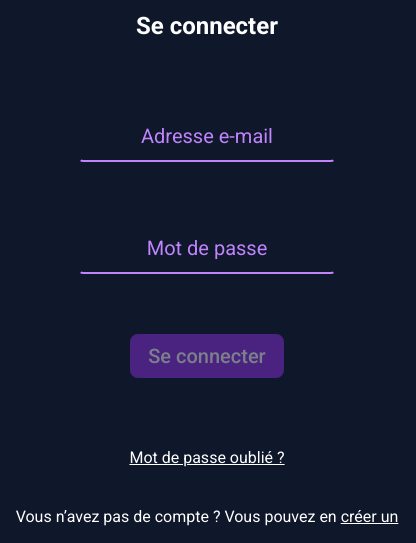
Login › devrait activer le bouton de soumission uniquement quand le formulaire est valide
Note: Saisir un email invalide
Type "invalid-email" into the field with placeholder "Adresse e-mail".
click(207, 136); type("invalid-email")  # box [79,110,335,162]
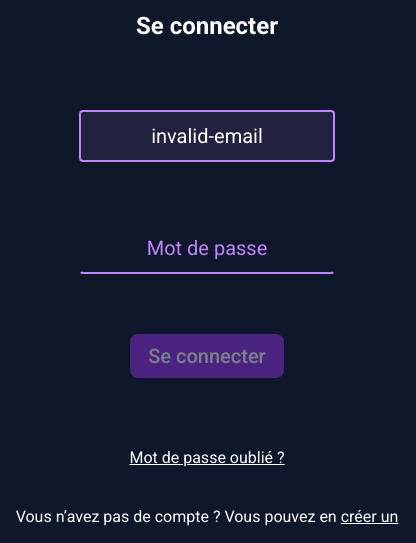
Expected: the button "Se connecter" is disabled, [130,334,284,378]
Note: Saisir un mot de passe court
Type "1234" into the password field with placeholder "Mot de passe".
click(207, 248); type("1234")  # box [79,222,335,274]
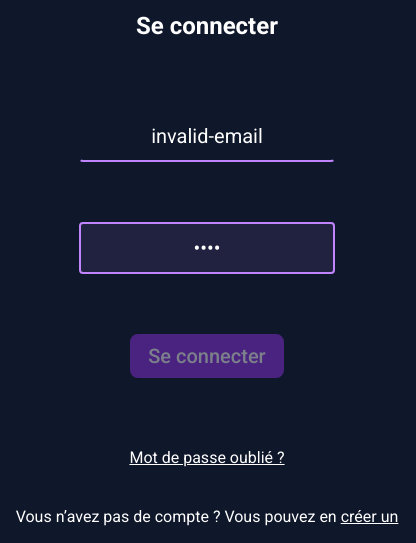
Expected: the button "Se connecter" is disabled, [130,334,284,378]
Note: Corriger l'email (il devient valide), mot de passe toujours trop court
Type "@domain.com" into the field with placeholder "Adresse e-mail".
click(207, 136); type("@domain.com")  # box [79,110,335,162]
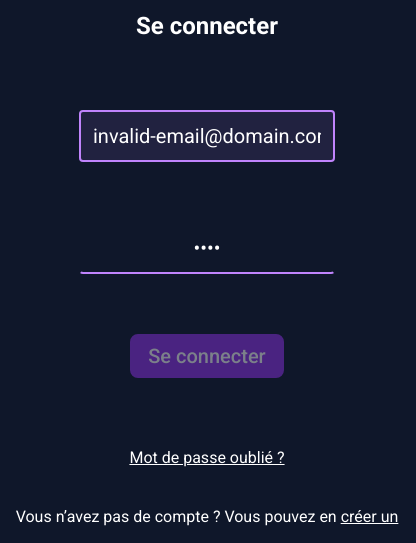
Expected: the button "Se connecter" is disabled, [130,334,284,378]
Note: Allonger le mot de passe → formulaire valide
Type "5678" into the password field with placeholder "Mot de passe".
click(207, 248); type("5678")  # box [79,222,335,274]
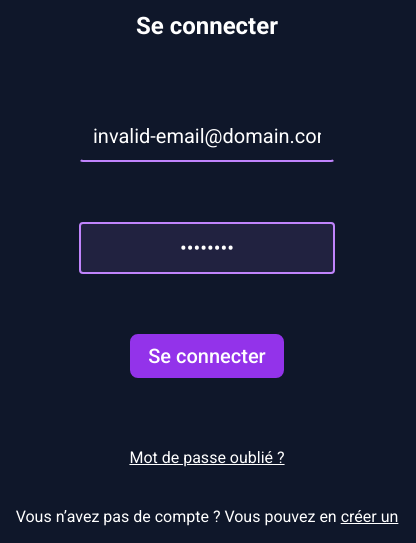
Expected: the button "Se connecter" is enabled, [130,334,284,378]
